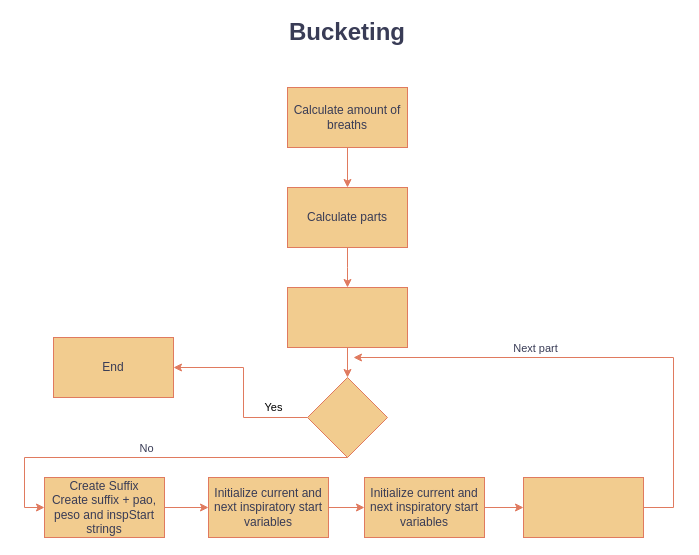
The diagram is 699 pixels wide and 555 high, and some of its shapes have lost their labels. The centre of each missing label's shape, as x and y in pixels:
For part in parts: (347,317)
Last Part?: (347,417)
Set bin value as average of breath: (583,507)
